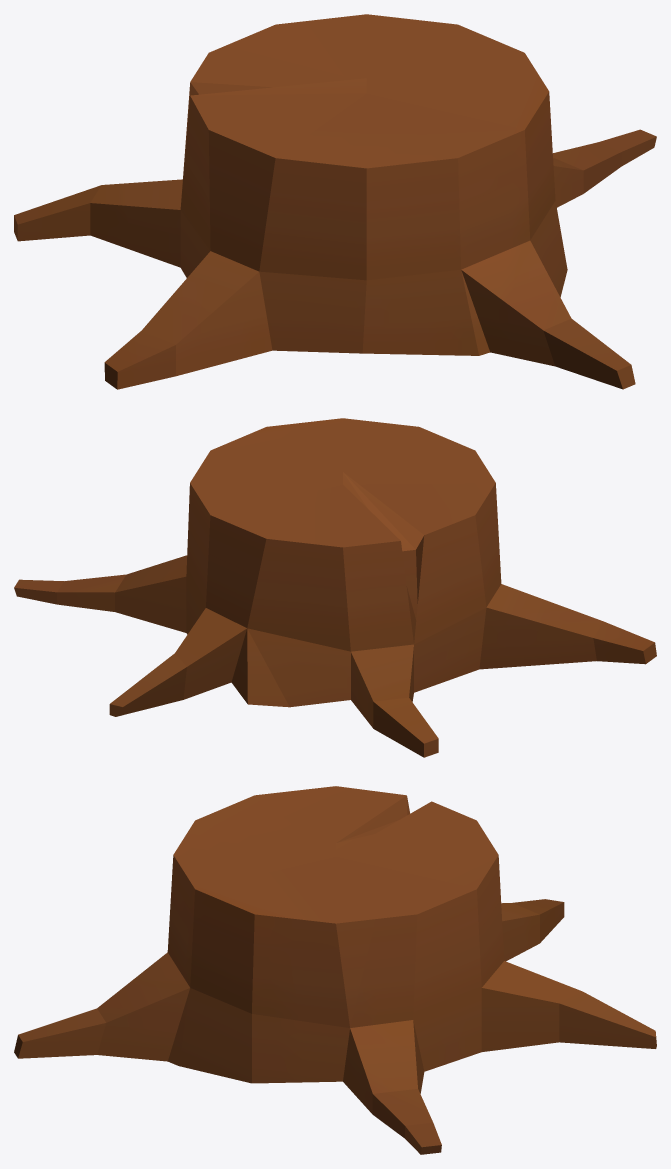
Rendered from stump.glb.
3 renders of one model, top to bottom at view 1: azimuth 30°, elevation 25°; view 2: azimuth 150°, elevation 25°; view 3: azimuth 270°, elevation 25°, orthographic. The views are drawn at different scales.
Visible parts, largest first — view 1: stump; view 2: stump; view 3: stump.
Boxes of the visible parts, left/top/right/bottom form: stump: left=14, top=14, right=656, bottom=389; stump: left=14, top=418, right=656, bottom=757; stump: left=14, top=786, right=656, bottom=1154.
Bounding box in the file's own units: 2.73 × 0.8081 × 2.62.
Materials: 1 (1 with a texture image).
